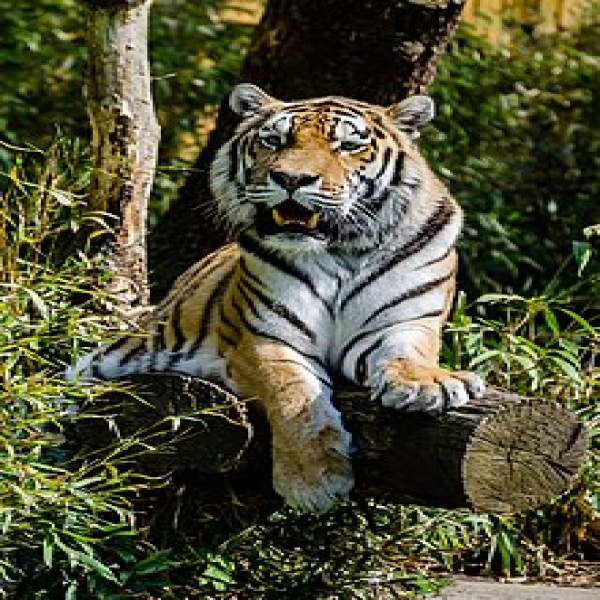Tiger: (65, 75, 491, 517)
